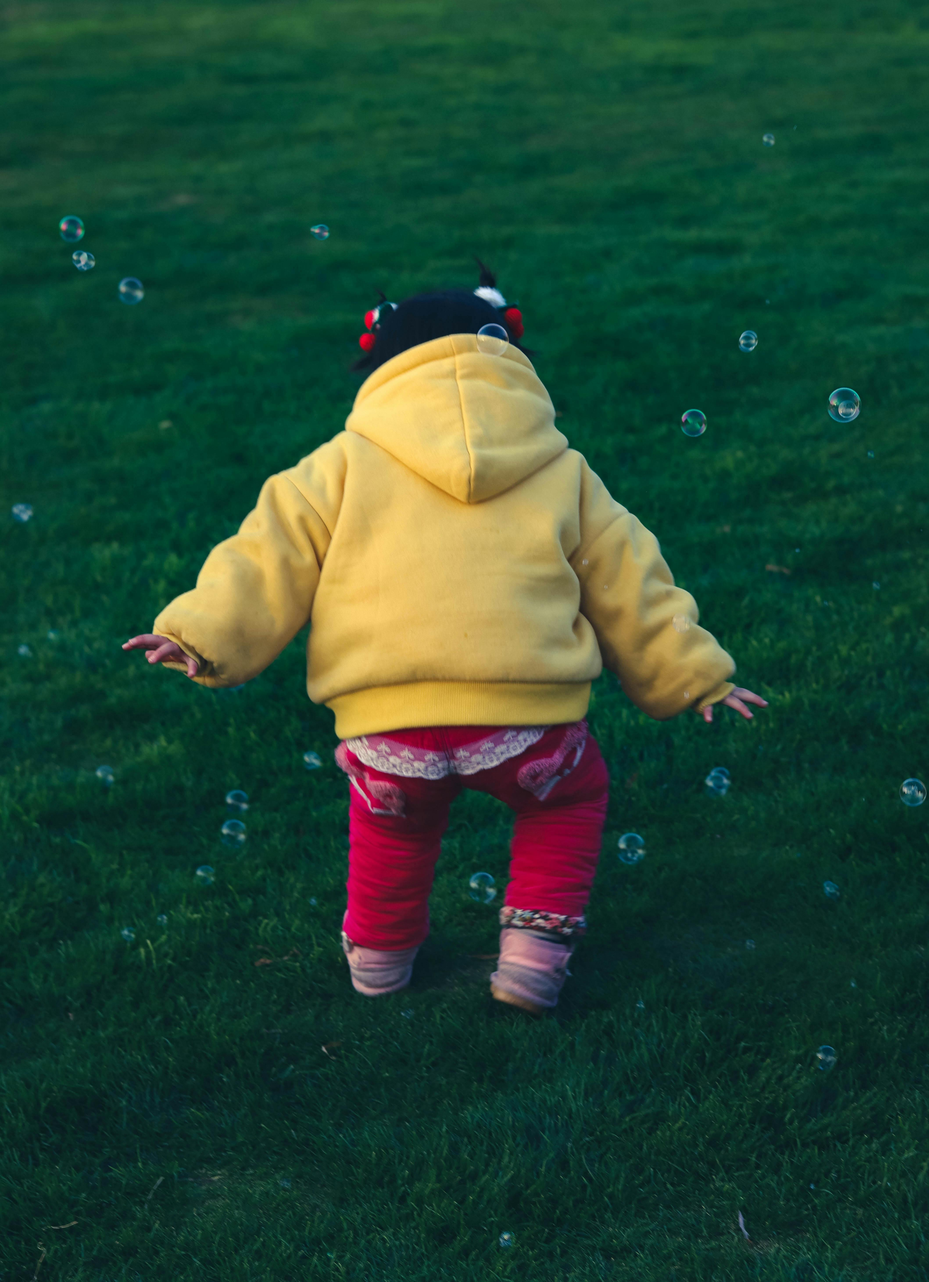Human: (146, 224, 743, 1019)
